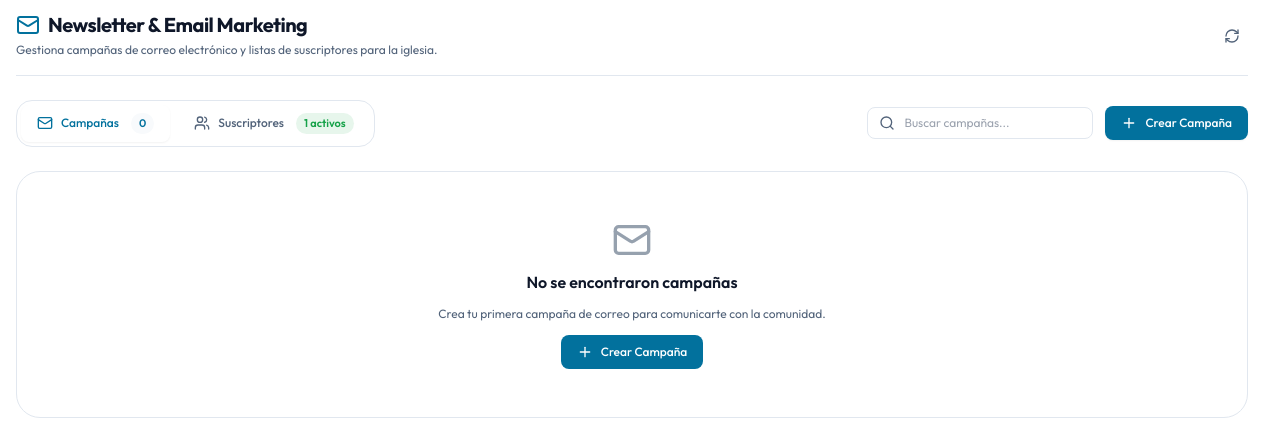
Scenario: CmsNewsletterManagement › renders subscribers list when switching to subscribers tab
Click the button "Suscriptores 1 activos": click(274, 123) left=178, top=105, right=370, bottom=142
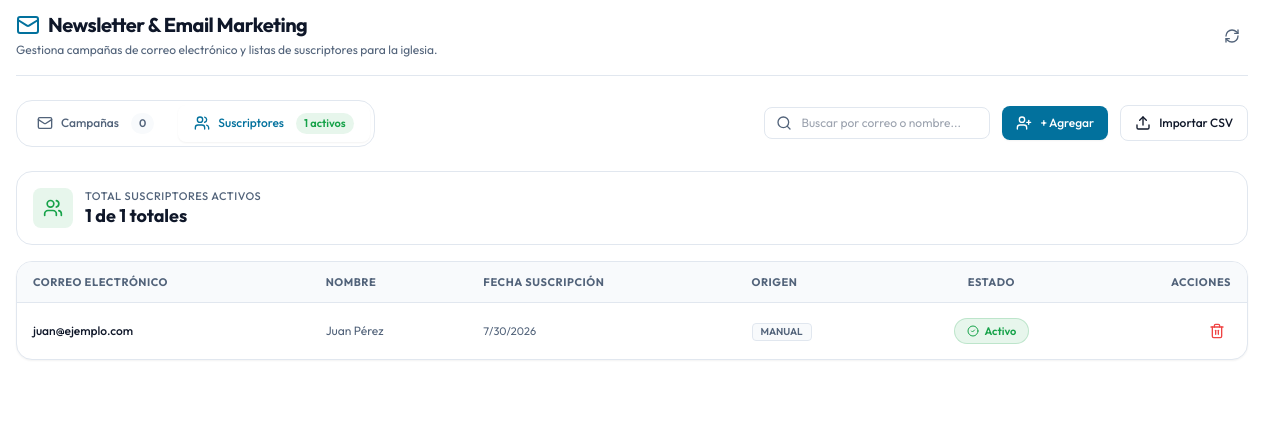
Check: the text "juan@ejemplo.com" is shown, box left=17, top=302, right=310, bottom=359
Check: the text "Juan Pérez" is shown, box left=310, top=302, right=467, bottom=359
